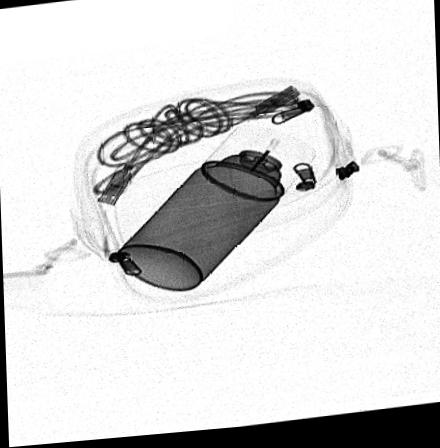Sprayer: (116, 128, 316, 294)
